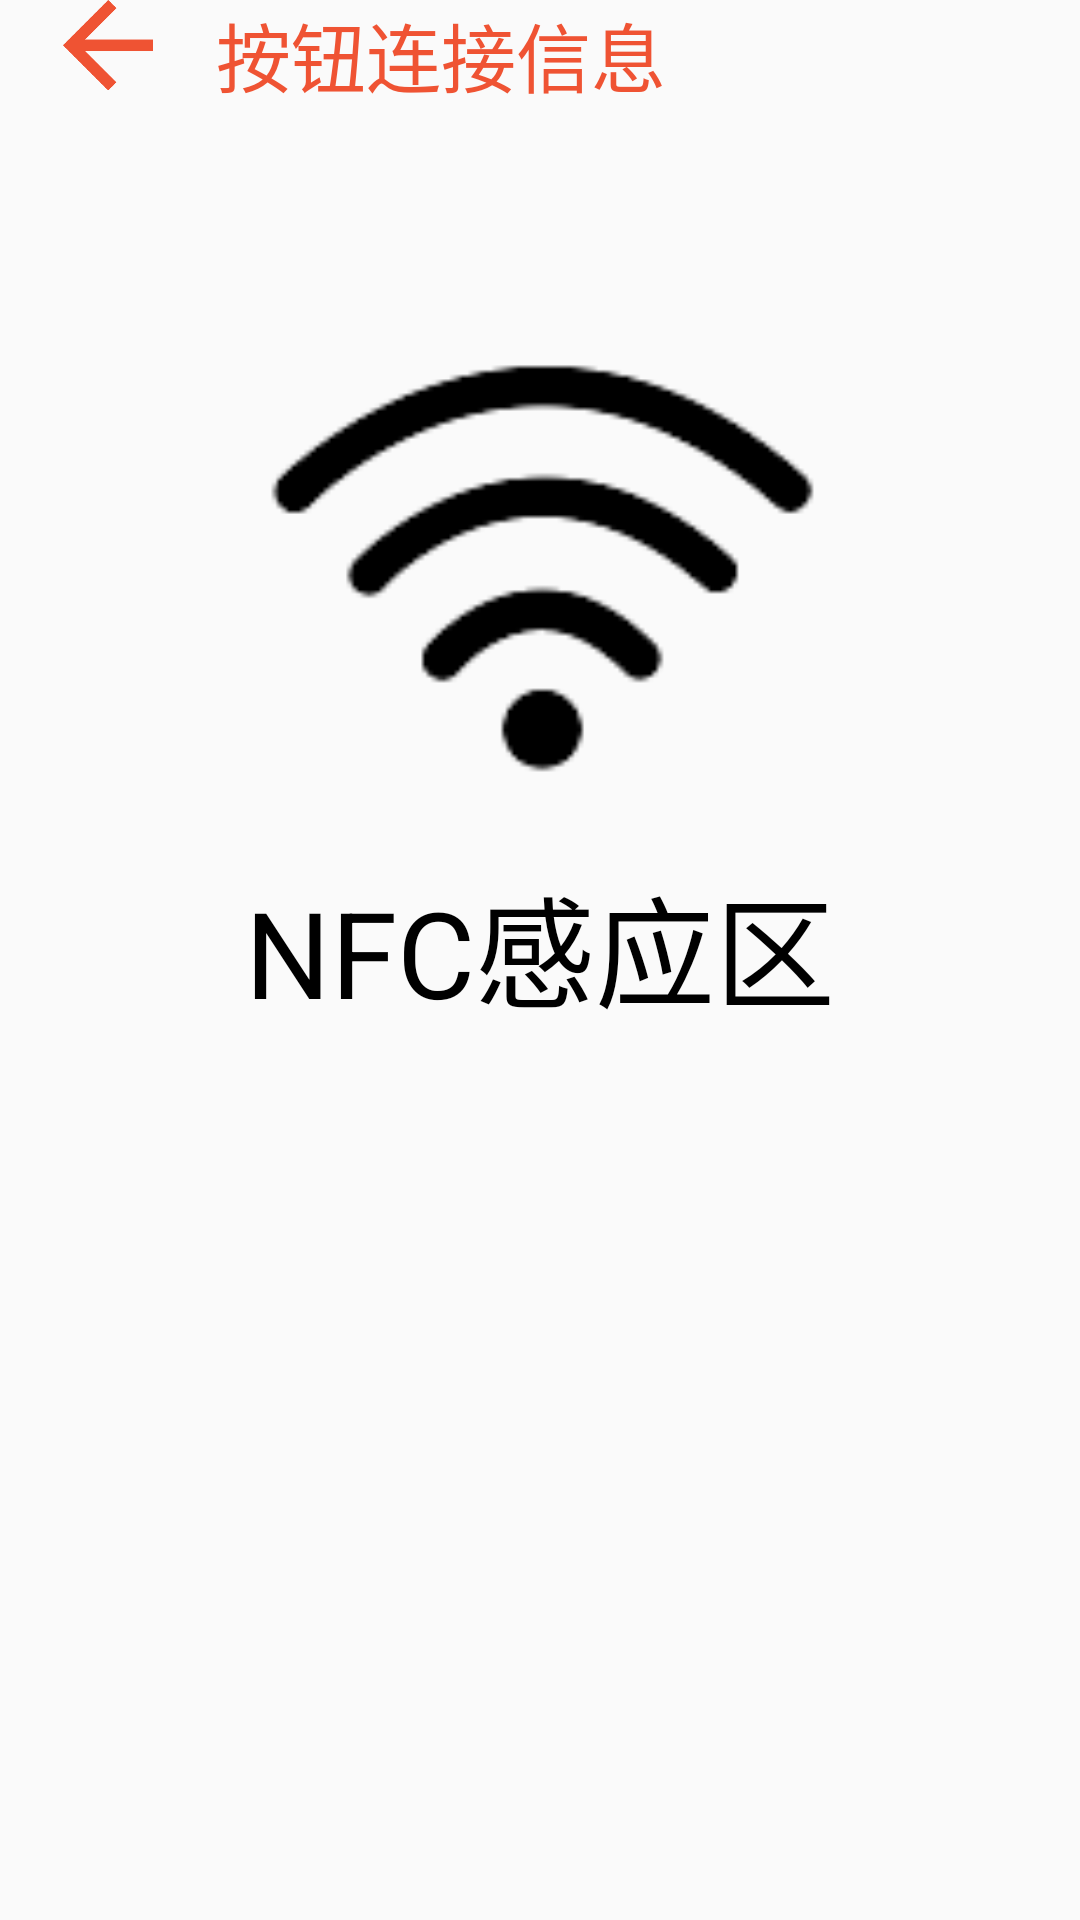

Locate icon controls on the screen. Image size 1080 × 1920, boxes as [left=x1, top=y1, right=x2, bottom=y2].
return last: [left=63, top=0, right=153, bottom=90]
